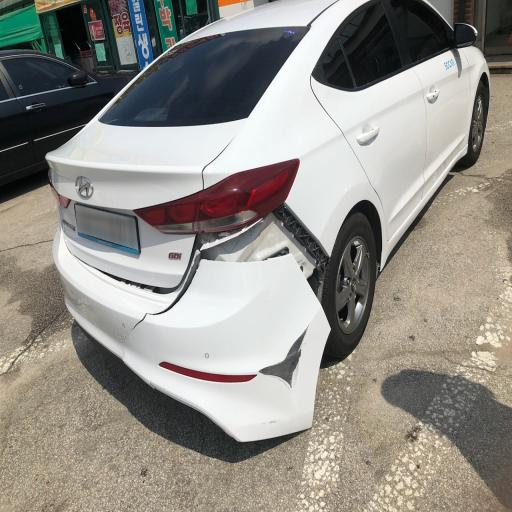broken: (119, 131, 367, 433)
